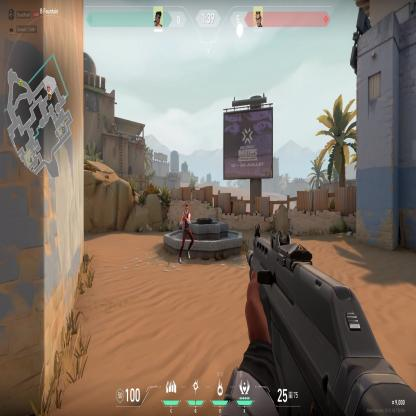enemy: (178, 202, 194, 266)
